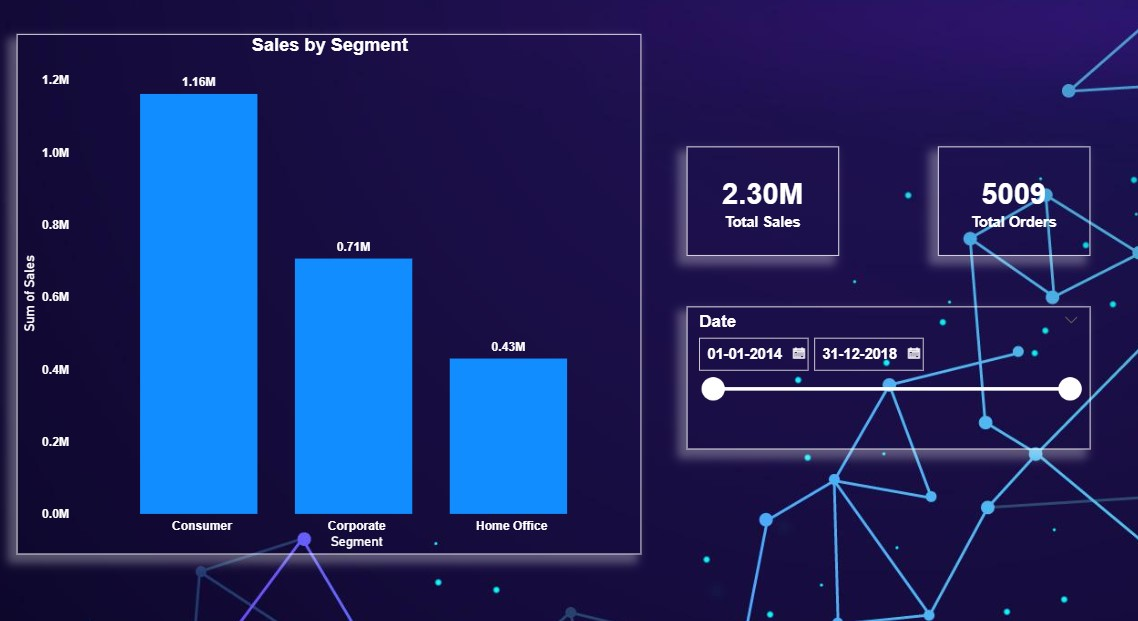

This screenshot's page, from the dashboard's own definition file:
{"tool":"powerbi","page":{"name":"Page 4","canvas":[1280,720],"ordinal":3},"visuals":[{"type":"clusteredColumnChart","title":"Sales by Segment","fields":{"Category":["Customer.Segment"],"Y":["Sum(Sales.Sales)"]},"box":[31.4,60,685.7,571.4],"z":0},{"type":"slicer","fields":{"Values":["Date.Date"]},"box":[767.1,360,442.9,157.1],"z":1000},{"type":"card","fields":{"Values":["DAX.Total Sales"]},"box":[767.1,184.3,167.1,120],"z":2000},{"type":"card","fields":{"Values":["DAX.Total Orders"]},"box":[1042.9,184.3,167.1,120],"z":2001}]}

Visuals, with their boxes on the page's 1280x720 design canvas (x1, y1, x2, y2). These are canvas units, not pixel positions in the 1138x621 screenshot, which may show the page scaled, cropped or inside an application window:
"Sales by Segment" clusteredColumnChart: {"x1": 31, "y1": 60, "x2": 717, "y2": 631}
slicer - Date.Date: {"x1": 767, "y1": 360, "x2": 1210, "y2": 517}
card - DAX.Total Sales: {"x1": 767, "y1": 184, "x2": 934, "y2": 304}
card - DAX.Total Orders: {"x1": 1043, "y1": 184, "x2": 1210, "y2": 304}
